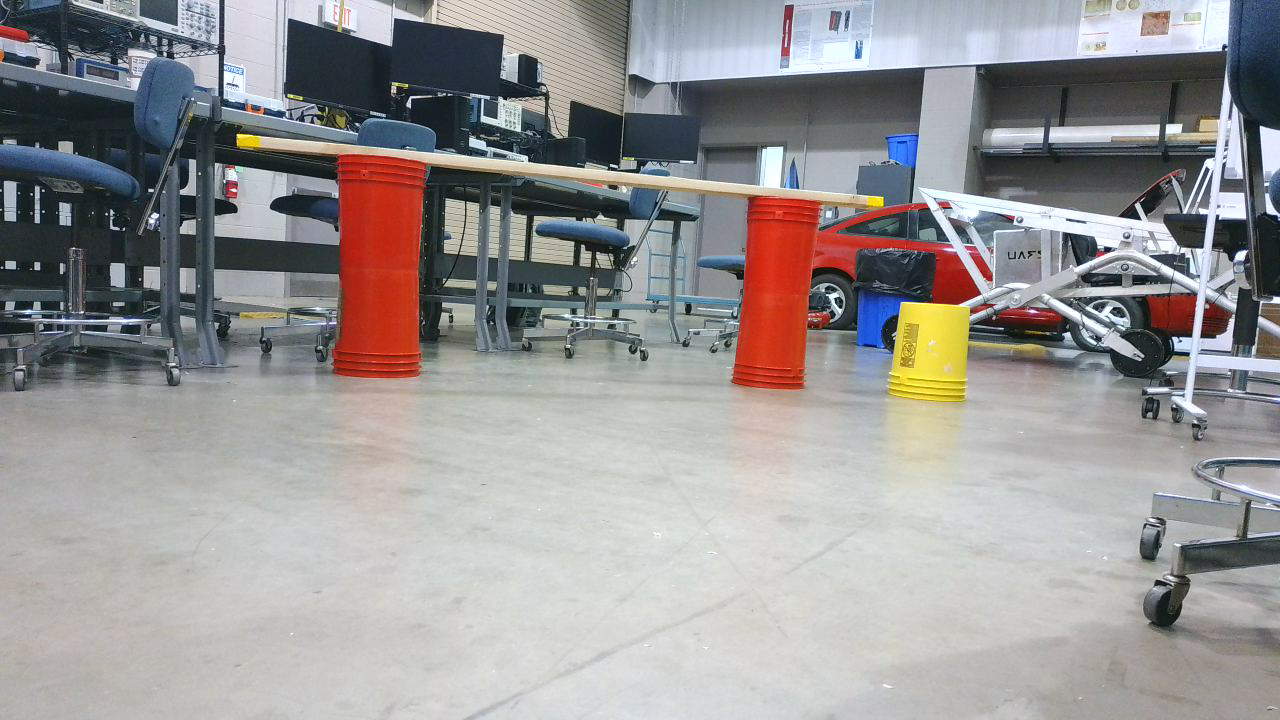red_bucket_arch: (336, 148, 834, 397)
yellow_bucket: (888, 303, 977, 411)
